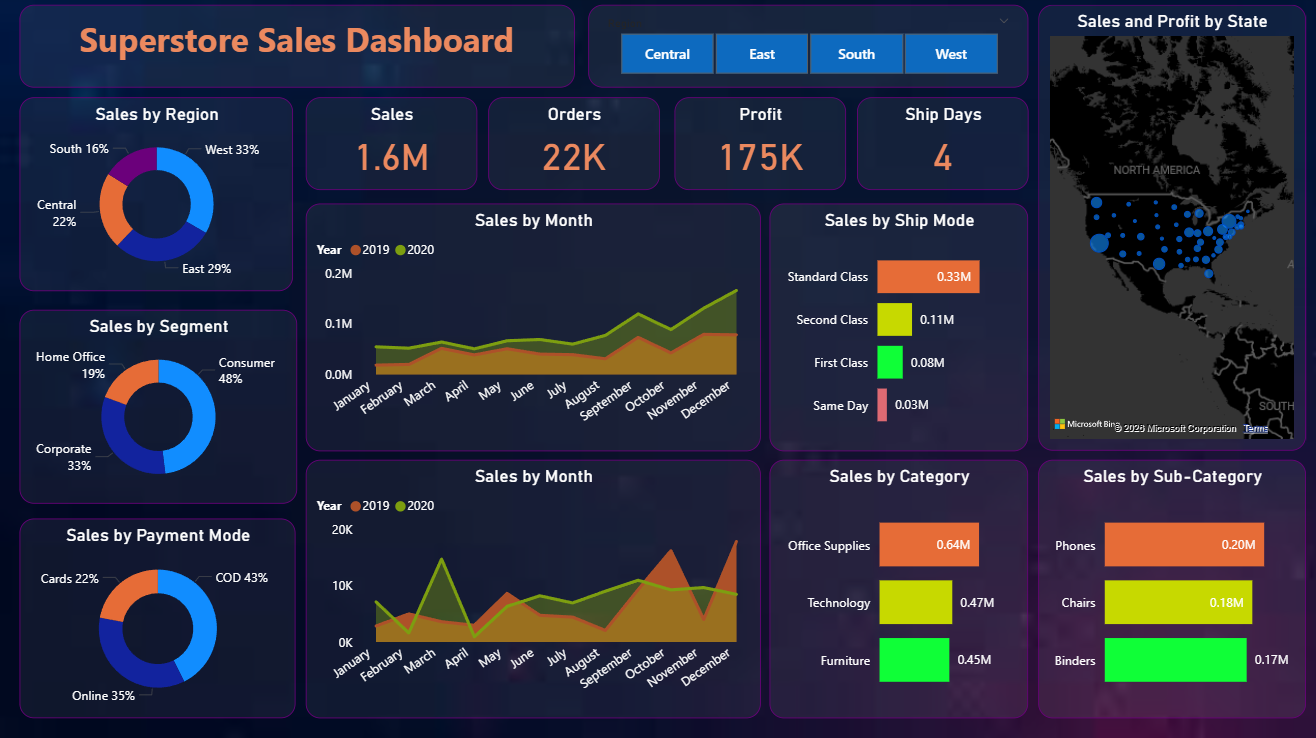

The page's visual inventory and layout, read from the dashboard file:
{"tool":"powerbi","page":{"name":"Page 1","canvas":[1280,720],"ordinal":0},"visuals":[{"type":"clusteredBarChart","title":" Sales by Category","fields":{"Category":["SuperStore_Sales_Dataset.Category"],"Y":["Sum(SuperStore_Sales_Dataset.Sales)"]},"box":[745.6,447.6,249.7,249.7],"z":0},{"type":"clusteredBarChart","title":" Sales by Sub-Category","fields":{"Y":["Sum(SuperStore_Sales_Dataset.Sales)"],"Category":["SuperStore_Sales_Dataset.Sub-Category"]},"box":[1005,447.6,258.2,249.7],"z":1000},{"type":"clusteredBarChart","title":" Sales by Ship Mode","fields":{"Y":["Sum(SuperStore_Sales_Dataset.Sales)"],"Category":["SuperStore_Sales_Dataset.Ship Mode"]},"box":[745.6,200.3,249.7,238.9],"z":2000},{"type":"areaChart","title":"Sales by Month","fields":{"Y":["Sum(SuperStore_Sales_Dataset.Sales)"],"Category":["SuperStore_Sales_Dataset.Order Date.Variation.Date Hierarchy.Month","SuperStore_Sales_Dataset.Order Date.Variation.Date Hierarchy.Day"],"Series":["SuperStore_Sales_Dataset.Order Date.Variation.Date Hierarchy.Year"]},"box":[298,200.3,439.1,238.9],"z":3000},{"type":"map","title":" Sales and Profit by State","fields":{"Category":["SuperStore_Sales_Dataset.State"],"Size":["Sum(SuperStore_Sales_Dataset.Sales)"]},"box":[1005,8.4,258.2,430.7],"z":5000},{"type":"donutChart","title":" Sales by Segment","fields":{"Category":["SuperStore_Sales_Dataset.Segment"],"Y":["Sum(SuperStore_Sales_Dataset.Sales)"]},"box":[21.7,302.8,267.8,187],"z":6000},{"type":"donutChart","title":" Sales by Payment Mode","fields":{"Category":["SuperStore_Sales_Dataset.Payment Mode"],"Y":["Sum(SuperStore_Sales_Dataset.Sales)"]},"box":[21.7,504.3,266.6,193],"z":7000},{"type":"slicer","fields":{"Values":["SuperStore_Sales_Dataset.Region"]},"box":[570.6,8.4,424.7,79.6],"z":8000},{"type":"textbox","box":[21.7,8.4,535.7,79.6],"z":9000},{"type":"card","title":"Sales","fields":{"Values":["Sum(SuperStore_Sales_Dataset.Sales)"]},"box":[298,97.7,165.3,89.3],"z":10000},{"type":"card","title":"Orders","fields":{"Values":["Sum(SuperStore_Sales_Dataset.Quantity)"]},"box":[474.1,97.7,165.3,89.3],"z":11000},{"type":"card","title":"Profit","fields":{"Values":["Sum(SuperStore_Sales_Dataset.Profit)"]},"box":[653.9,97.7,165.3,89.3],"z":12000},{"type":"donutChart","title":"Sales by Region","fields":{"Y":["Sum(SuperStore_Sales_Dataset.Sales)"],"Category":["SuperStore_Sales_Dataset.Region"]},"box":[21.7,97.7,264.2,187],"z":13000},{"type":"card","title":"Ship Days","fields":{"Values":["Avg(SuperStore_Sales_Dataset.AvgDelivery)"]},"box":[830,97.7,165.3,89.3],"z":14000},{"type":"areaChart","title":"Sales by Month","fields":{"Category":["SuperStore_Sales_Dataset.Order Date.Variation.Date Hierarchy.Month","SuperStore_Sales_Dataset.Order Date.Variation.Date Hierarchy.Day"],"Series":["SuperStore_Sales_Dataset.Order Date.Variation.Date Hierarchy.Year"],"Y":["Sum(SuperStore_Sales_Dataset.Profit)"]},"box":[298,447.6,439.1,249.7],"z":14001}]}

Visuals, with their boxes in screenshot pixels (x1, y1, x2, y2), scaled from the page's 1280x720 canvas onto the 1316x738 screenshot:
" Sales by Category" clusteredBarChart: x1=767, y1=459, x2=1023, y2=715
" Sales by Sub-Category" clusteredBarChart: x1=1033, y1=459, x2=1299, y2=715
" Sales by Ship Mode" clusteredBarChart: x1=767, y1=205, x2=1023, y2=450
"Sales by Month" areaChart: x1=306, y1=205, x2=758, y2=450
" Sales and Profit by State" map: x1=1033, y1=9, x2=1299, y2=450
" Sales by Segment" donutChart: x1=22, y1=310, x2=298, y2=502
" Sales by Payment Mode" donutChart: x1=22, y1=517, x2=296, y2=715
slicer - SuperStore_Sales_Dataset.Region: x1=587, y1=9, x2=1023, y2=90
textbox: x1=22, y1=9, x2=573, y2=90
"Sales" card: x1=306, y1=100, x2=476, y2=192
"Orders" card: x1=487, y1=100, x2=657, y2=192
"Profit" card: x1=672, y1=100, x2=842, y2=192
"Sales by Region" donutChart: x1=22, y1=100, x2=294, y2=292
"Ship Days" card: x1=853, y1=100, x2=1023, y2=192
"Sales by Month" areaChart: x1=306, y1=459, x2=758, y2=715
